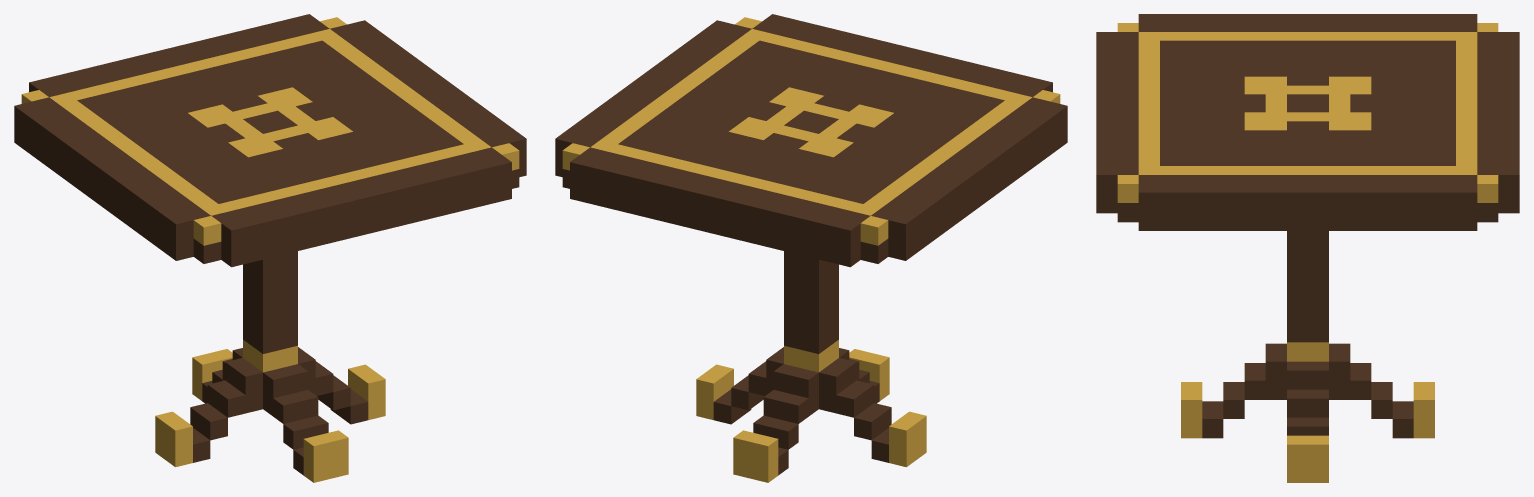
The model's file is ggj table.obj.
The picture shows the model from 3 angles, left to right: view 1: azimuth 30°, elevation 25°; view 2: azimuth 150°, elevation 25°; view 3: azimuth 270°, elevation 25°; orthographic projection. The views are drawn at different scales.
Bounding box in the file's own units: 2 × 1.7 × 2.
Materials: 1 (1 with a texture image).
